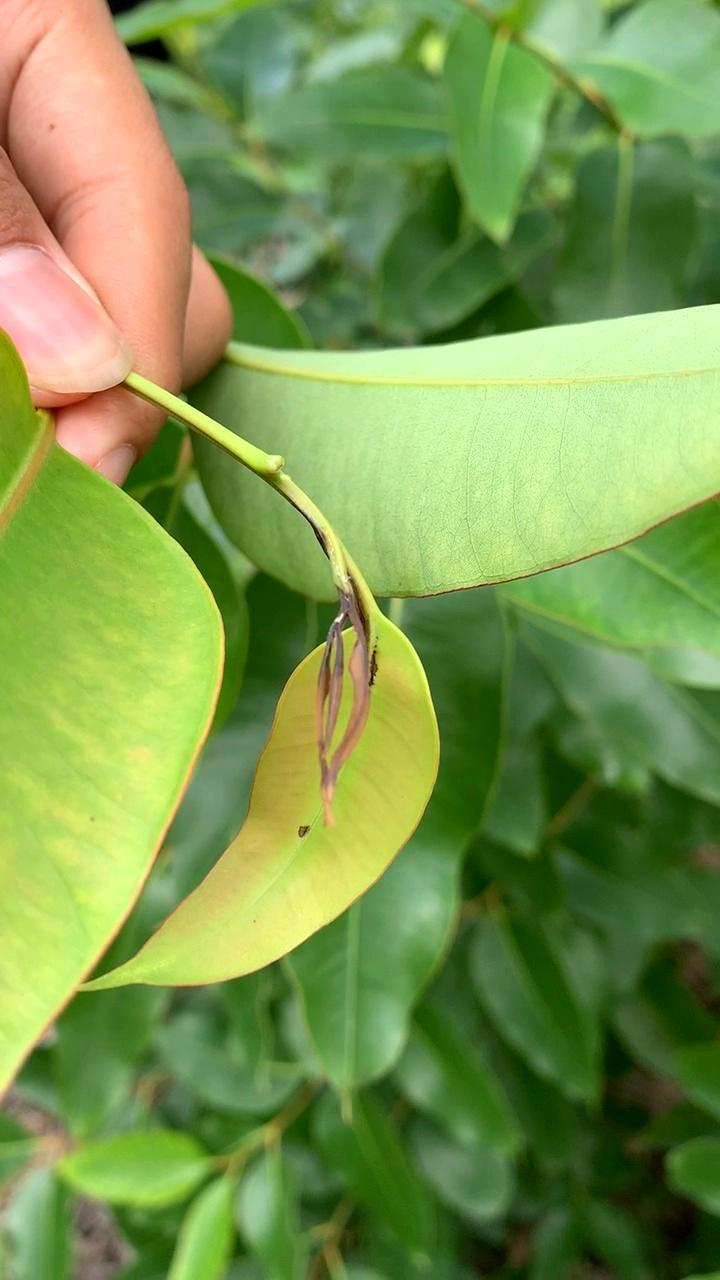Helopeltis-Withered Sprout: (300, 593, 399, 811)
